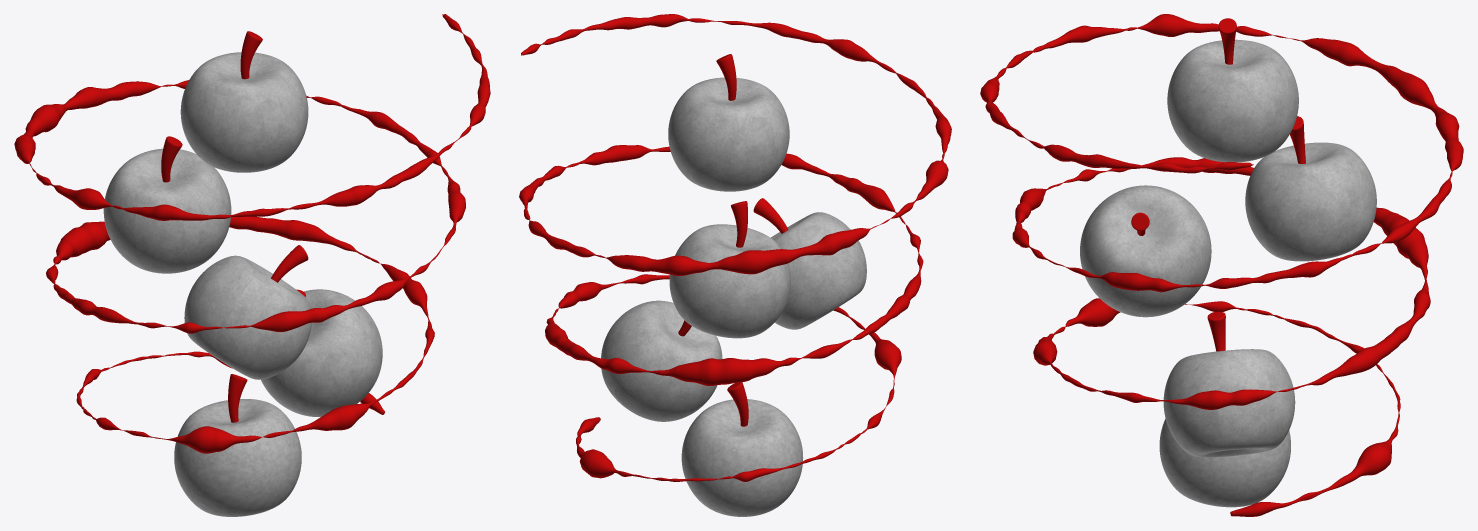
File: asset.glb
The picture shows the model from 3 angles, left to right: view 1: azimuth 30°, elevation 25°; view 2: azimuth 150°, elevation 25°; view 3: azimuth 270°, elevation 25°; orthographic projection. The views are drawn at different scales.
Visible parts, largest first — view 1: Spiral, 球体_Baked.004, 球体_Baked.002, 球体_Baked, 球体_Baked.003, 球体_Baked.001; view 2: Spiral, 球体_Baked.004, 球体_Baked, 球体_Baked.002, 球体_Baked.001, 球体_Baked.003; view 3: Spiral, 球体_Baked.004, 球体_Baked.002, 球体_Baked.003, 球体_Baked.001, 球体_Baked.
Boxes of the visible parts, x1,y1,x2,y2 form: Spiral: [14, 14, 490, 453]; 球体_Baked.004: [180, 31, 308, 172]; 球体_Baked.002: [103, 136, 231, 273]; 球体_Baked: [174, 374, 301, 516]; 球体_Baked.003: [184, 245, 311, 379]; 球体_Baked.001: [261, 289, 382, 416]; Spiral: [519, 14, 951, 481]; 球体_Baked.004: [668, 54, 789, 191]; 球体_Baked: [681, 382, 803, 516]; 球体_Baked.002: [669, 201, 790, 338]; 球体_Baked.001: [601, 300, 722, 421]; 球体_Baked.003: [753, 198, 866, 329]; Spiral: [980, 14, 1463, 516]; 球体_Baked.004: [1167, 18, 1298, 162]; 球体_Baked.002: [1245, 116, 1376, 261]; 球体_Baked.003: [1080, 185, 1211, 317]; 球体_Baked.001: [1163, 311, 1295, 457]; 球体_Baked: [1159, 419, 1290, 507].
Bounding box in the file's own units: 7.3 × 8.01 × 7.25.
4 materials, 4 textured.
